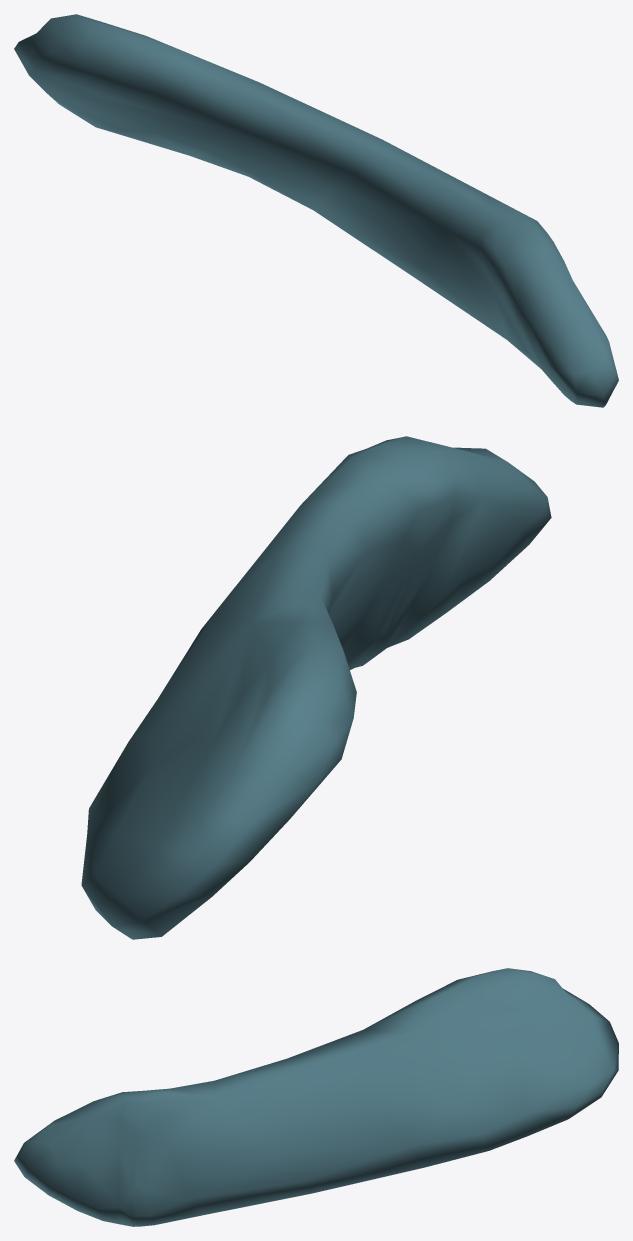
Rendered from Adductor_hallucis_oblique_head_lateral_sesamoid_right.glb.
3 renders of one model, top to bottom at view 1: azimuth 30°, elevation 25°; view 2: azimuth 150°, elevation 25°; view 3: azimuth 270°, elevation 25°, orthographic. The views are drawn at different scales.
Parts seen in each view (by area): view 1: Obl._head_of_add._hallucis_on_lat._sesamoid_bone_of_foot.r_G; view 2: Obl._head_of_add._hallucis_on_lat._sesamoid_bone_of_foot.r_G; view 3: Obl._head_of_add._hallucis_on_lat._sesamoid_bone_of_foot.r_G.
Boxes of the visible parts, x1,y1,x2,y2 form: Obl._head_of_add._hallucis_on_lat._sesamoid_bone_of_foot.r_G: (14, 14, 618, 407); Obl._head_of_add._hallucis_on_lat._sesamoid_bone_of_foot.r_G: (81, 436, 551, 939); Obl._head_of_add._hallucis_on_lat._sesamoid_bone_of_foot.r_G: (14, 968, 618, 1226).
Size of the model in its own units: 0.00236 by 0.00186 by 0.0059.
